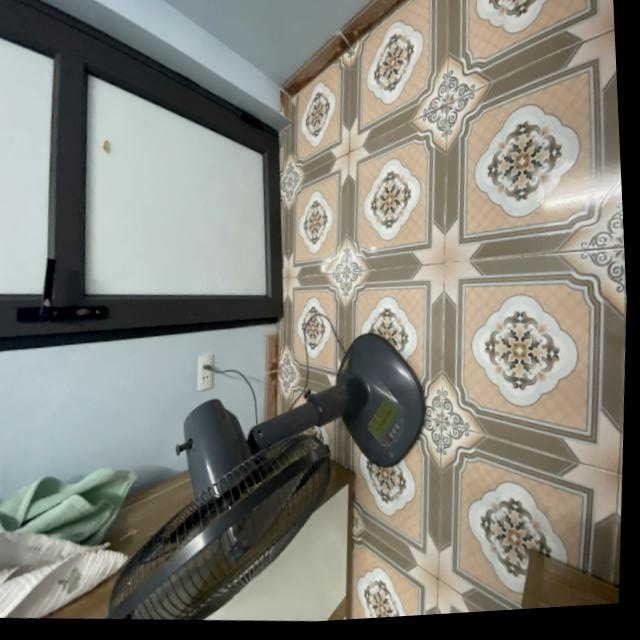outlet: (194, 353, 215, 393)
